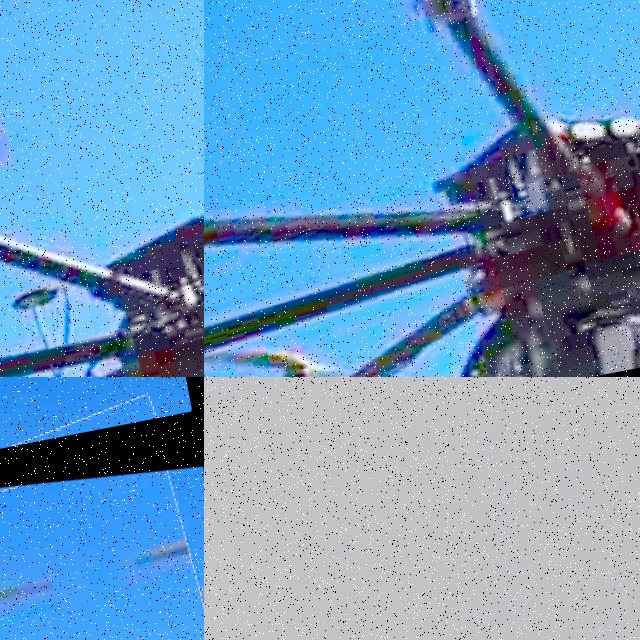drone: (204, 0, 640, 377), (0, 0, 204, 377), (0, 411, 204, 640)
